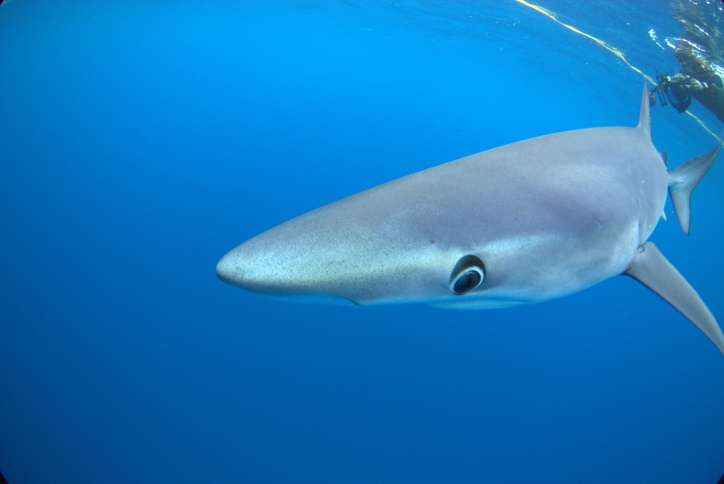Azul: (193, 68, 724, 364)
